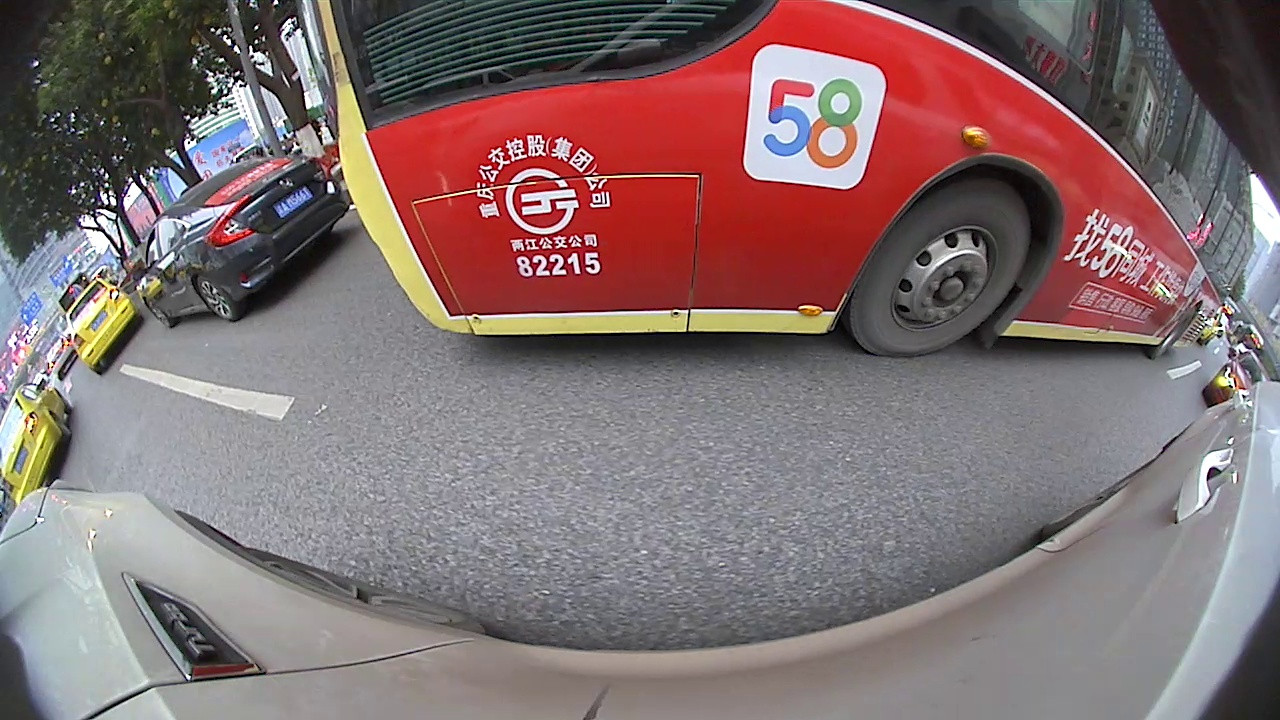bus: (288, 1, 1259, 365)
car: (136, 150, 351, 333), (2, 380, 75, 501), (64, 274, 143, 378)
front: (837, 172, 1037, 360), (142, 301, 175, 329)
rear: (1150, 304, 1201, 361), (190, 277, 244, 323)
